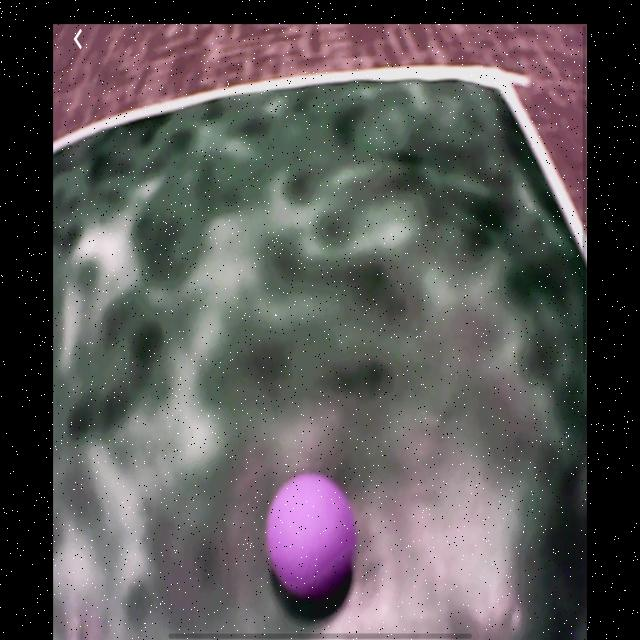ball: (265, 472, 358, 603)
